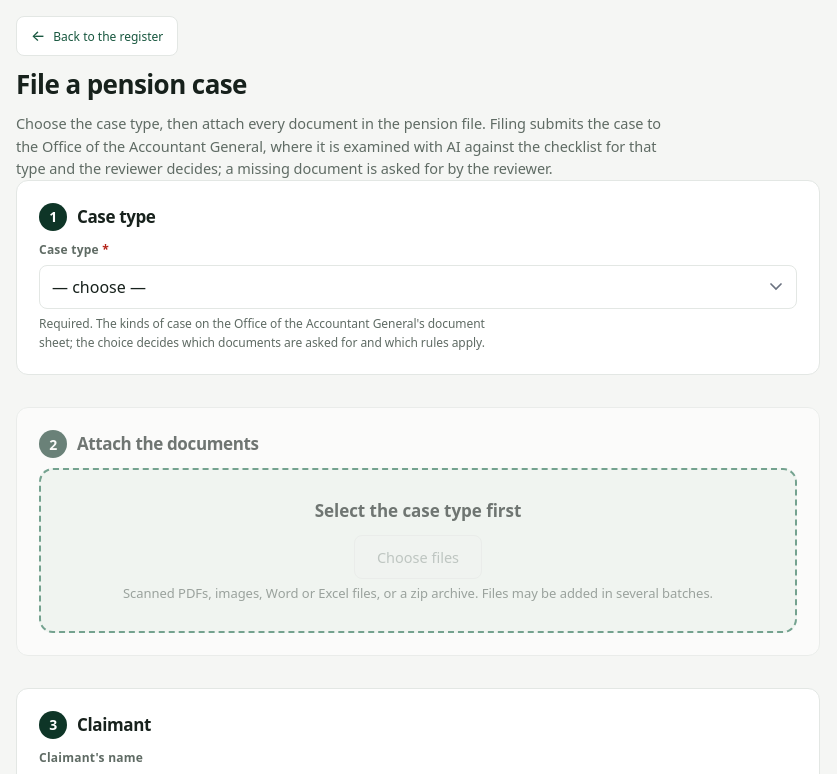
Scenario: the kind of claim is chosen before anything is attached › the pension case says "case type" in the same places
The image size is (837, 774).
Click the text "Select the case type first" at (418, 511), box x1=315 y1=500 x2=521 y2=522
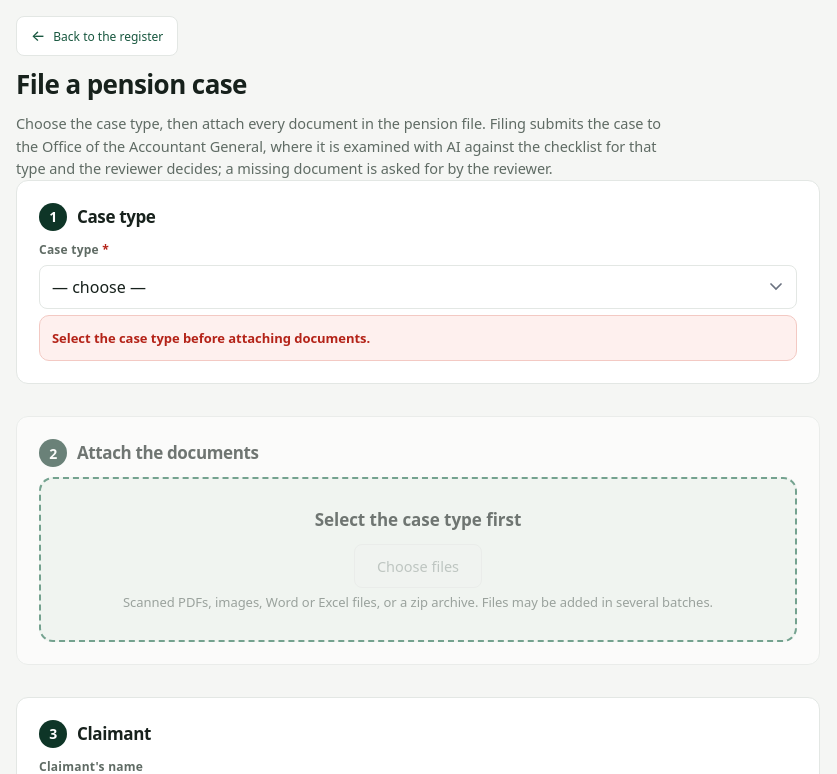
expect the message reads "Select the case type before attaching documents.": met, box x1=52 y1=329 x2=370 y2=347
